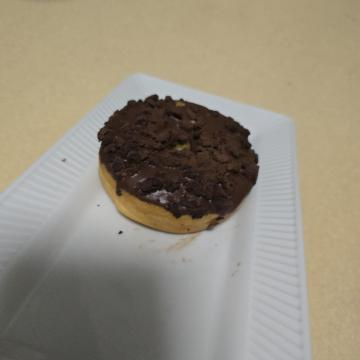doughnut: (90, 94, 243, 276)
